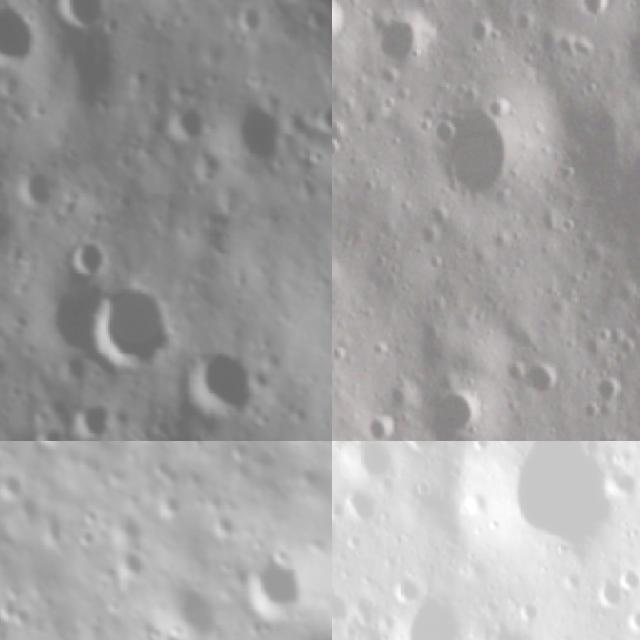crater: (487, 441, 640, 566), (224, 528, 320, 634), (434, 90, 519, 200), (86, 288, 167, 374), (186, 338, 252, 418), (157, 573, 232, 640), (238, 98, 289, 166), (421, 391, 495, 436), (394, 594, 465, 640), (346, 441, 406, 492), (106, 540, 160, 596), (382, 5, 428, 62), (0, 2, 33, 79), (0, 586, 43, 638), (481, 610, 555, 640), (382, 563, 427, 611), (163, 106, 208, 149), (54, 0, 105, 37), (585, 571, 628, 613), (67, 406, 118, 441), (69, 236, 113, 276), (21, 163, 55, 214), (148, 481, 191, 521), (0, 464, 36, 511), (204, 505, 245, 546), (591, 373, 625, 410), (575, 0, 632, 22), (230, 6, 269, 36), (526, 360, 555, 400), (281, 398, 315, 432), (332, 575, 353, 628), (188, 156, 226, 185), (397, 441, 458, 459), (22, 441, 84, 458), (73, 523, 104, 555), (332, 0, 351, 47), (222, 441, 256, 467), (300, 8, 332, 33), (620, 602, 640, 638), (81, 504, 105, 532), (314, 100, 332, 137), (36, 424, 67, 441)
